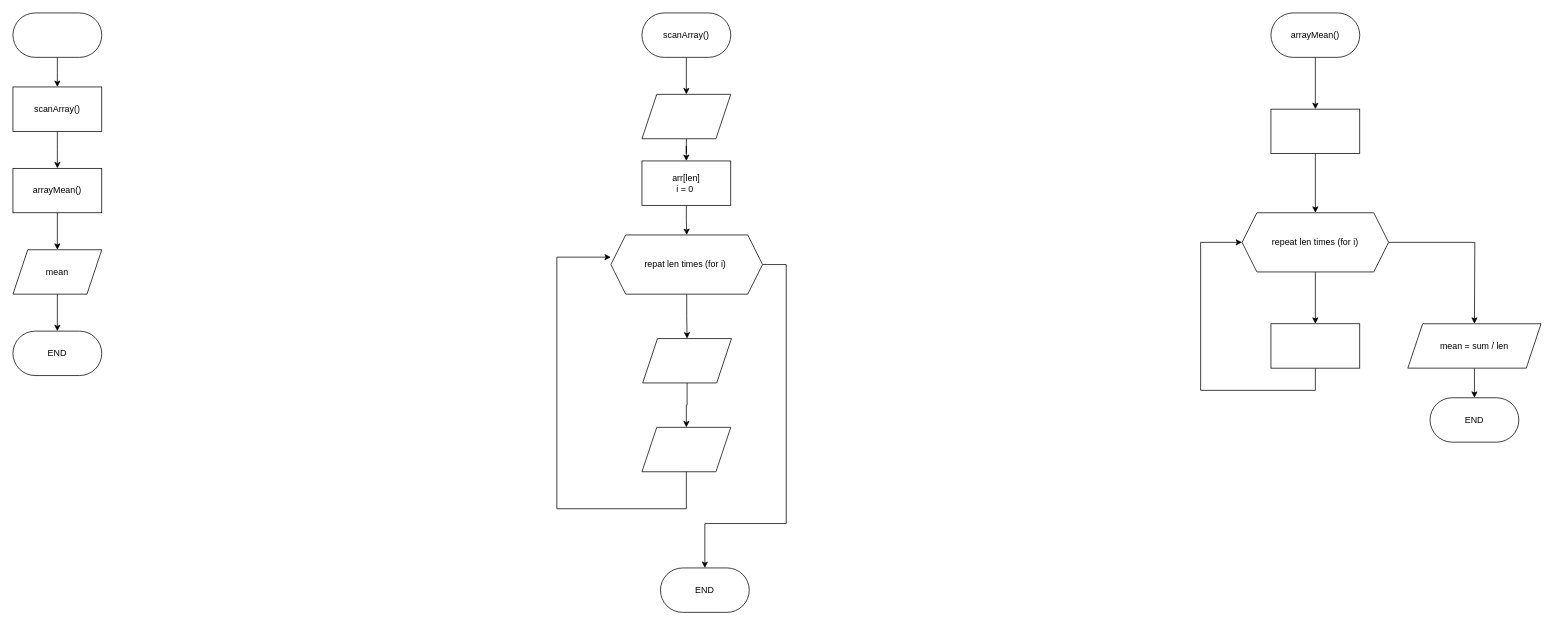
Image size: 1554x625. Some labels were removed from this diagram. The shapes that lost their labels are listed below. From the top down, each one's box as (x1, y1, x2, y2) in pixels, then its label:
(12, 12, 102, 57): Main
(641, 94, 731, 139): Enter len
(1270, 108, 1360, 154): mean = 0 sum = 0
(642, 338, 731, 383): Enter `i` element
(1270, 323, 1360, 368): sum = sum + array[i]
(641, 427, 731, 472): array[i]
